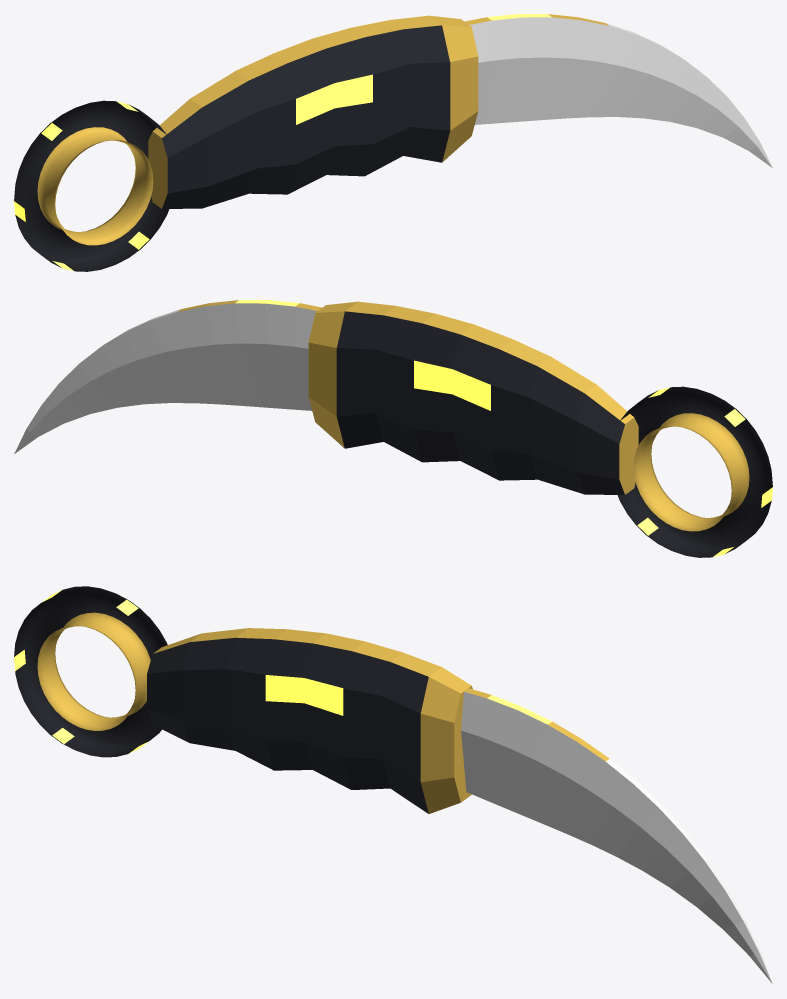
File: karambit.glb
3 views of the same model, one above another, from view 1: azimuth 30°, elevation 25°; view 2: azimuth 150°, elevation 25°; view 3: azimuth 330°, elevation 25° (orthographic).
Parts seen in each view (by area): view 1: KarambitHandle, KarambitBlade, KarambitRing; view 2: KarambitHandle, KarambitBlade, KarambitRing; view 3: KarambitHandle, KarambitBlade, KarambitRing.
Boxes of the visible parts, bbox=[...] form: KarambitHandle: bbox=[148, 15, 478, 208]; KarambitBlade: bbox=[464, 14, 772, 167]; KarambitRing: bbox=[14, 100, 172, 271]; KarambitHandle: bbox=[308, 301, 638, 494]; KarambitBlade: bbox=[14, 300, 322, 453]; KarambitRing: bbox=[614, 386, 772, 557]; KarambitHandle: bbox=[147, 628, 472, 813]; KarambitBlade: bbox=[461, 688, 772, 983]; KarambitRing: bbox=[14, 586, 167, 757].
Bounding box in the file's own units: 0.1951 × 0.0587 × 0.0136.
